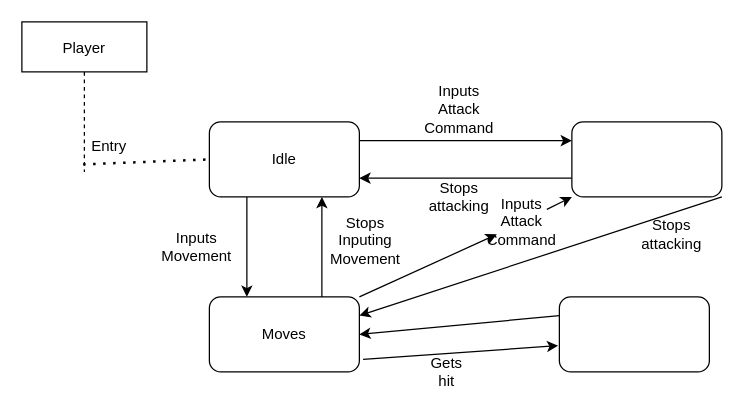
Some shapes in this 754 by 411 pixel diagram are drawn without their labels. Each missing label, with the centre of its shape:
"Attacking" belongs at pixel 646 159.
"Getting Hit" belongs at pixel 633 334.
